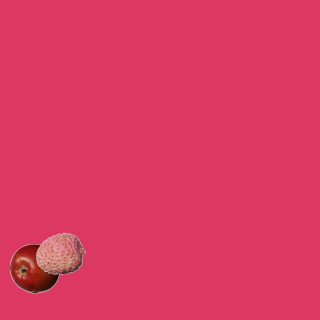Apple Braeburn: (9, 243, 59, 293)
Lychee: (35, 228, 85, 278)
